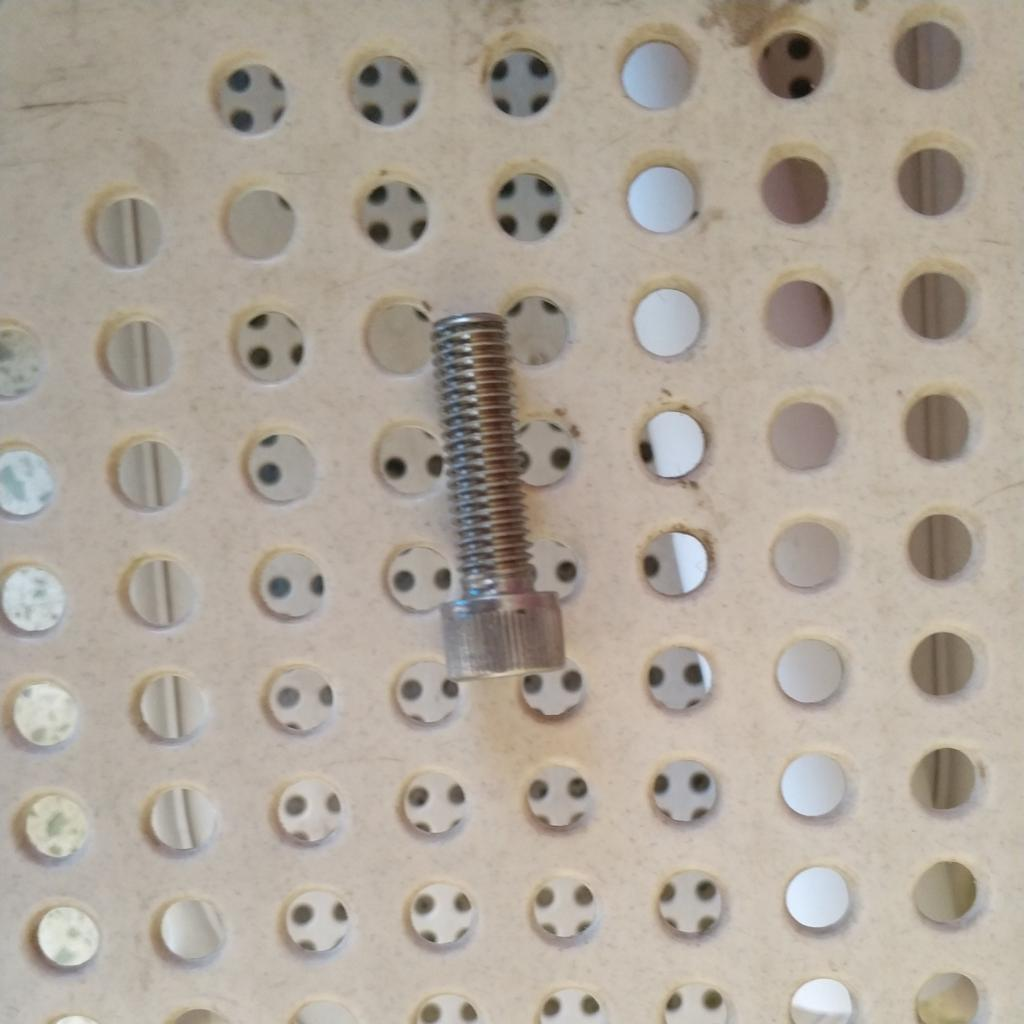screwtype1silver: (402, 303, 574, 685)
